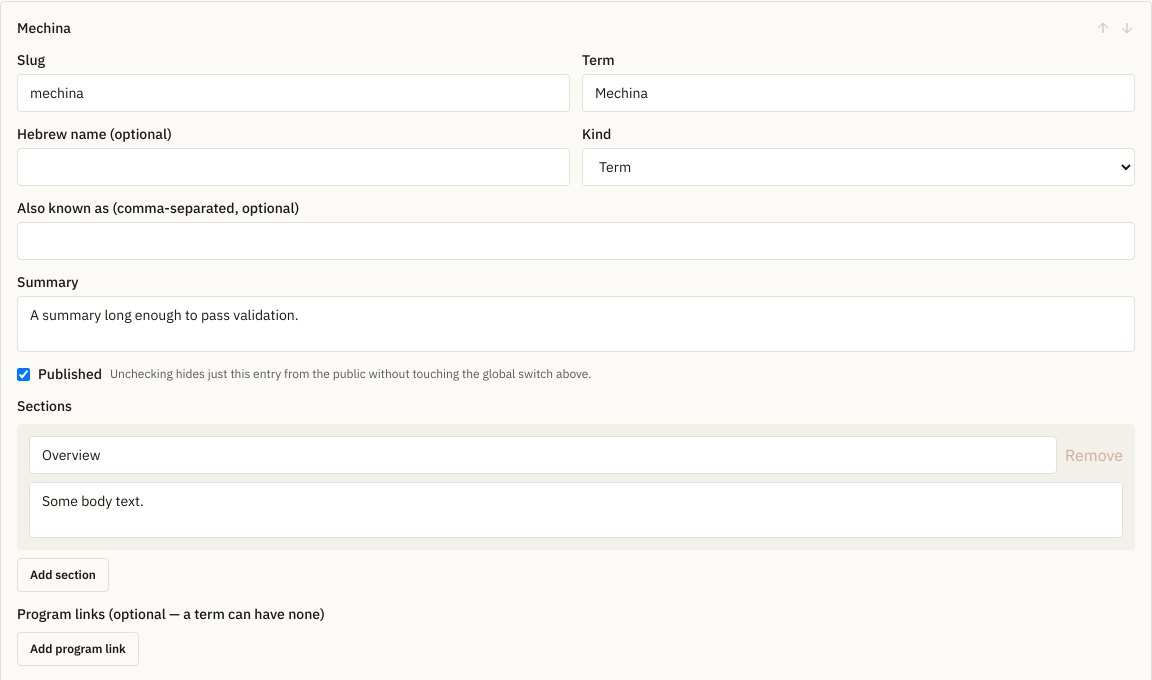
Test: GlossaryEntriesManager › after the simulated refresh, Unsaved clears on every entry and the sticky bar unmounts
Replace the text in the text box showing "A summary long enough to pass validation." with "Updated summary text goes here now." at (576,324), box x1=17 y1=296 x2=1135 y2=352
(page scrolled)
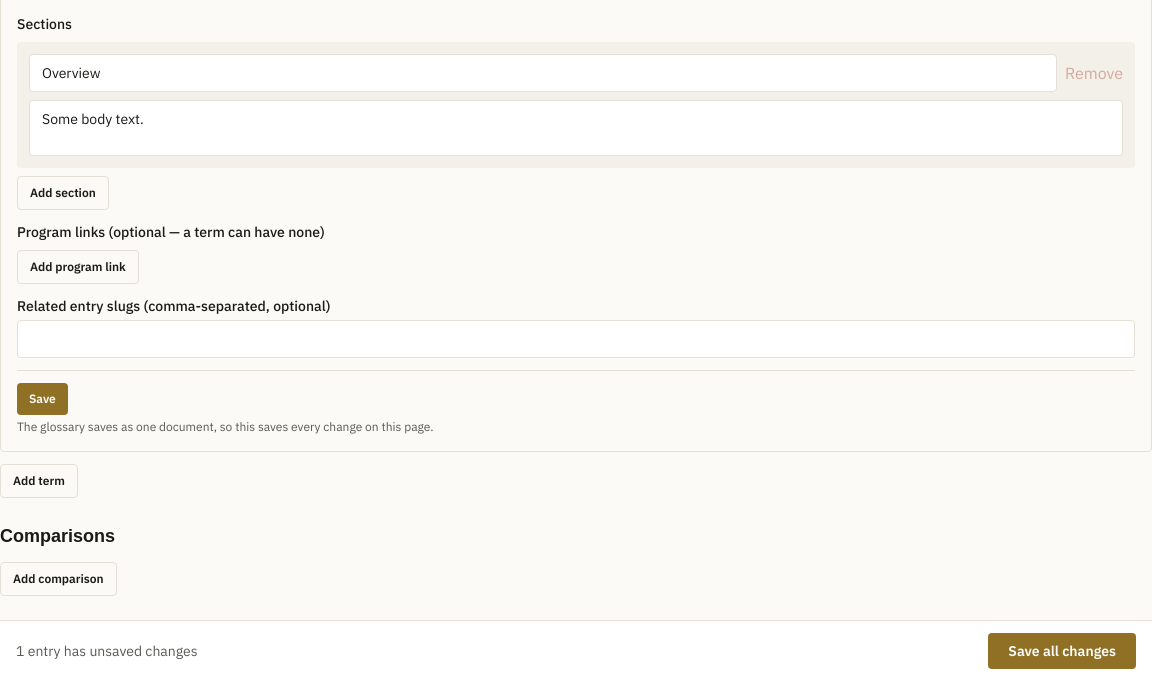
Click the button "Save" at (42,399), box x1=17 y1=383 x2=68 y2=415
(page scrolled)
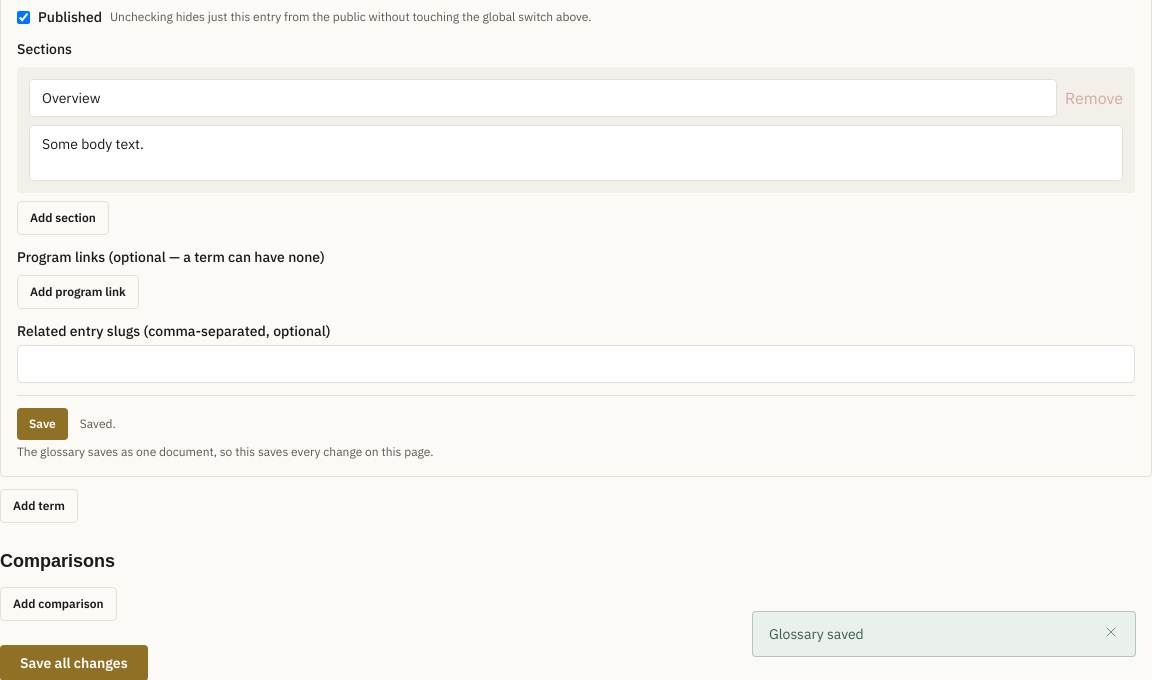
Now the text "unsaved changes" is gone
